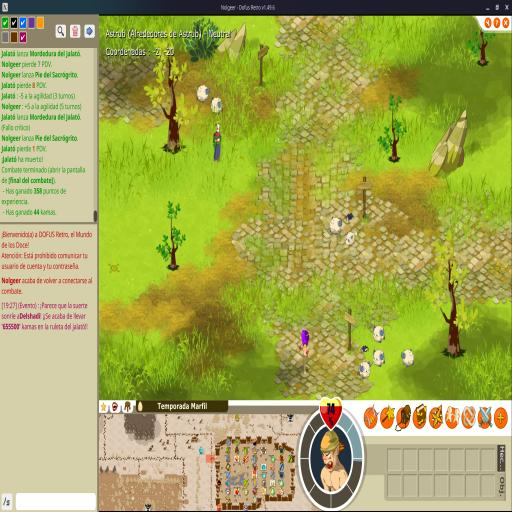Enemigos: (210, 96, 224, 116), (329, 216, 343, 236), (372, 324, 386, 344), (372, 348, 386, 368), (358, 360, 372, 380), (401, 348, 415, 368), (196, 85, 210, 103), (345, 230, 358, 248), (344, 212, 355, 223), (359, 344, 369, 356)
Personaje: (296, 328, 312, 380)
